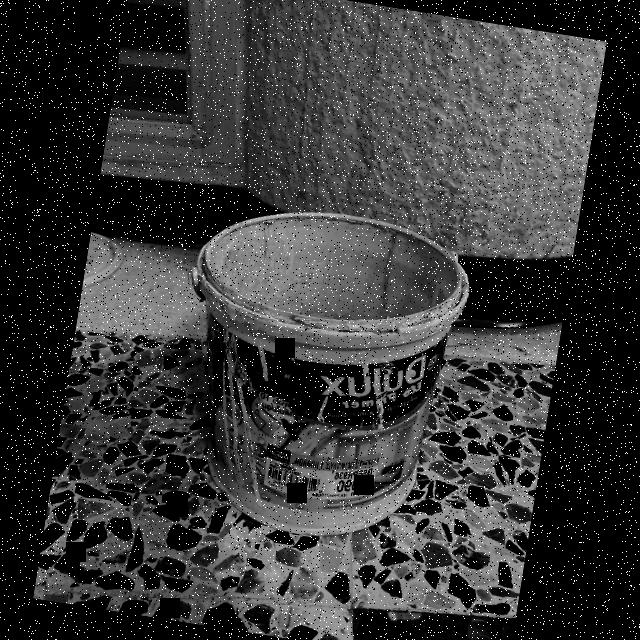paint_bucket: (155, 186, 483, 558)
